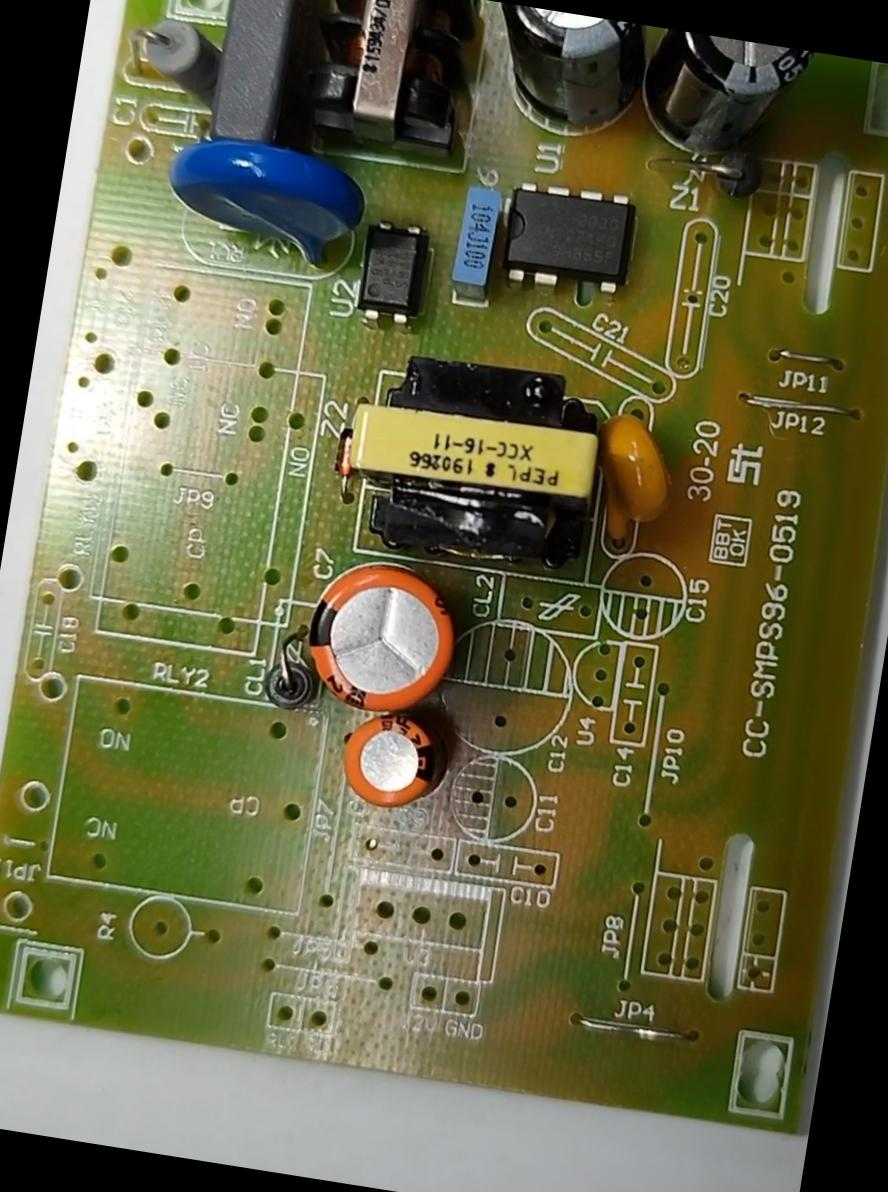Cap1: (289, 544, 476, 733)
Cap2: (329, 702, 453, 822)
Cap3: (471, 1, 656, 148)
Cap4: (626, 26, 820, 182)
MOSFET: (492, 171, 646, 301)
Mov: (151, 124, 375, 282)
Resistor: (122, 5, 238, 124)
Transformer: (327, 338, 623, 590), (281, 0, 491, 174)
